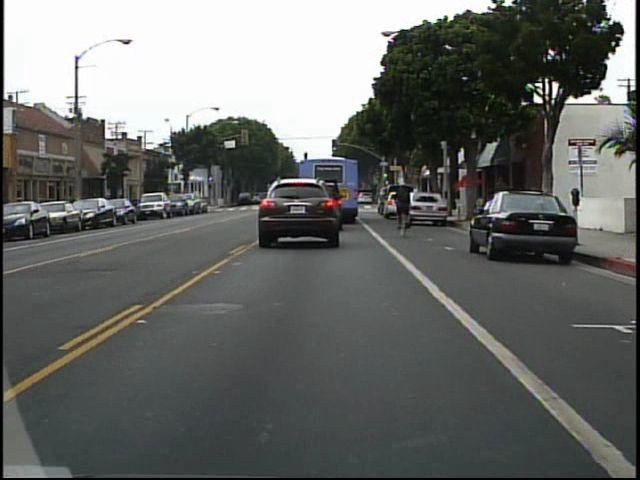person: (393, 178, 416, 235)
